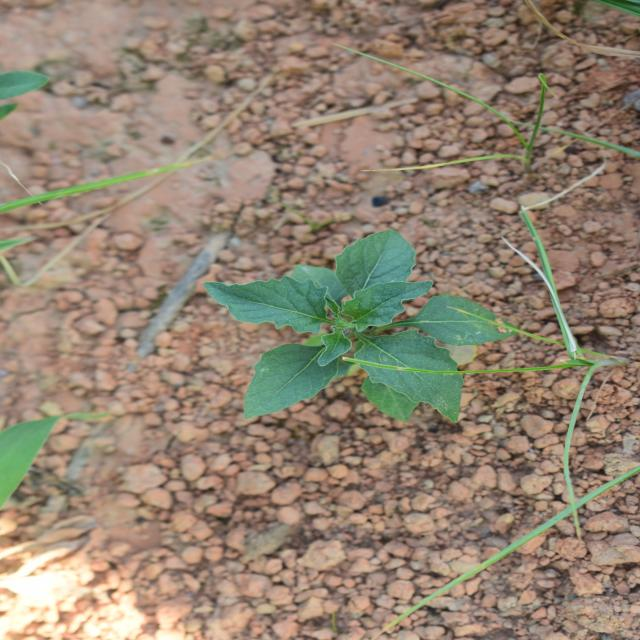Black_nightshade: (204, 217, 410, 478)
